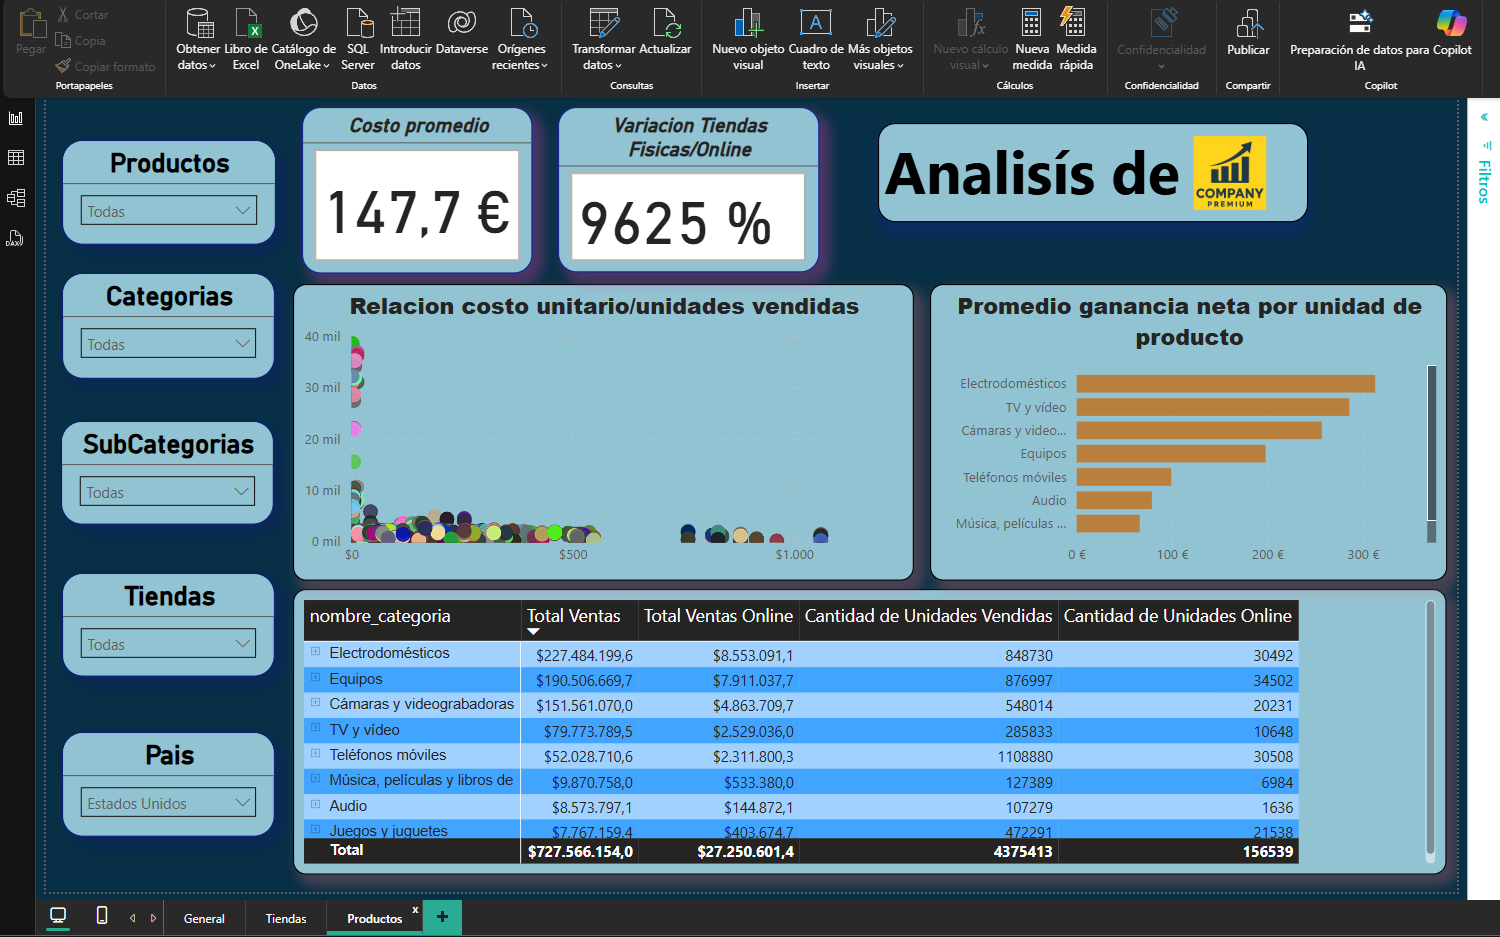

This screenshot's page, from the dashboard's own definition file:
{"tool":"powerbi","page":{"name":"Productos","canvas":[1280,720],"ordinal":2},"visuals":[{"type":"textbox","box":[625.6,9.3,565.9,82.3],"z":0},{"type":"slicer","title":"Productos","fields":{"Values":["dim_producto.nombre_producto"]},"box":[14.4,56.6,237.7,94.7],"z":3000},{"type":"slicer","title":"Categorias","fields":{"Values":["dim_prod_sub.nombre_categoria"]},"box":[14.4,222.3,245.9,95.7],"z":4000},{"type":"slicer","title":"SubCategorias","fields":{"Values":["dim_prod_sub.nombre_subcategoria"]},"box":[10.3,398.2,245.9,93.6],"z":5000},{"type":"pivotTable","title":"Ventas por categoria","fields":{"Rows":["dim_prod_sub.nombre_categoria","dim_prod_sub.nombre_subcategoria","dim_producto.nombre_producto"],"Values":["medidas.Total Ventas","medidas.Cantidad de Unidades","medidas.Productos comercializados"]},"box":[513.4,445.5,766.6,261.4],"z":6000},{"type":"cardVisual","title":"Costo promedio","fields":{"Data":["medidas.Promedio de precio por producto"]},"box":[286,21.6,209.9,200.6],"z":7000},{"type":"scatterChart","title":"Relacion costo unitario/unidades vendidas","fields":{"X":["dim_producto.costo_unit"],"Y":["medidas.Cantidad de Unidades Vendidas"]},"box":[513.4,133.8,766.6,311.8],"z":8000},{"type":"slicer","title":"Pais","fields":{"Values":["dim_geografia.pais"]},"box":[14.1,558.2,237.8,94],"z":9000}]}

Visuals, with their boxes on the page's 1280x720 design canvas (x1, y1, x2, y2). These are canvas units, not pixel positions in the 1500x937 screenshot, which may show the page scaled, cropped or inside an application window:
textbox: (626, 9, 1192, 92)
"Productos" slicer: (14, 57, 252, 151)
"Categorias" slicer: (14, 222, 260, 318)
"SubCategorias" slicer: (10, 398, 256, 492)
"Ventas por categoria" pivotTable: (513, 446, 1280, 707)
"Costo promedio" cardVisual: (286, 22, 496, 222)
"Relacion costo unitario/unidades vendidas" scatterChart: (513, 134, 1280, 446)
"Pais" slicer: (14, 558, 252, 652)
